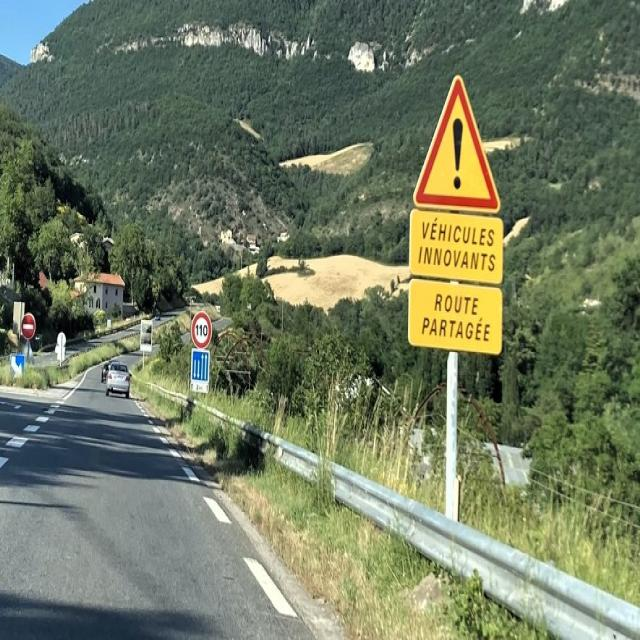danger: (412, 73, 504, 214)
forbidden: (21, 310, 36, 342)
speed_110: (190, 309, 212, 347)
